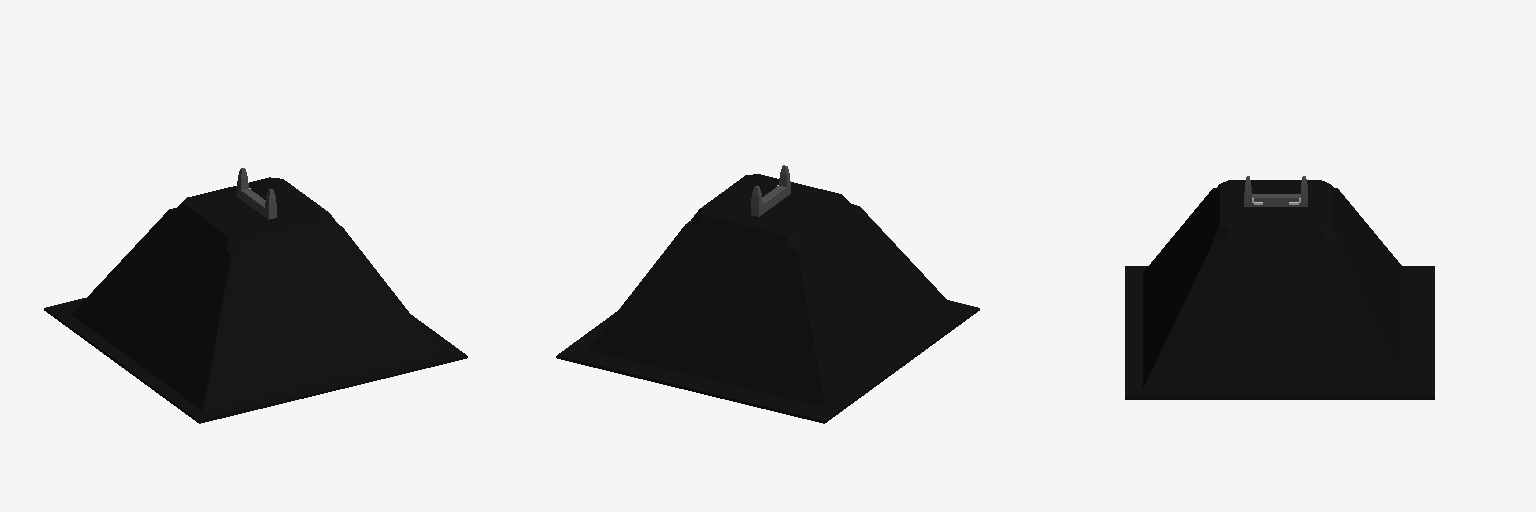
3 renders of one model, left to right at view 1: azimuth 30°, elevation 25°; view 2: azimuth 150°, elevation 25°; view 3: azimuth 270°, elevation 25°, orthographic.
Visible parts, largest first — view 1: Base, Handle; view 2: Base, Handle; view 3: Base, Handle.
Part boxes in pixels (x1,y1,x2,y2): Base: (44,177,467,423); Handle: (237,168,276,219); Base: (556,174,979,423); Handle: (751,165,790,216); Base: (1125,180,1434,399); Handle: (1244,176,1307,206).
Bounding box in the file's own units: 2 × 1.12 × 2.